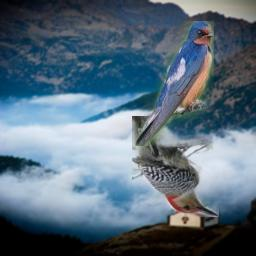Swallow: (135, 21, 214, 146)
Woodpecker: (132, 116, 219, 217)
